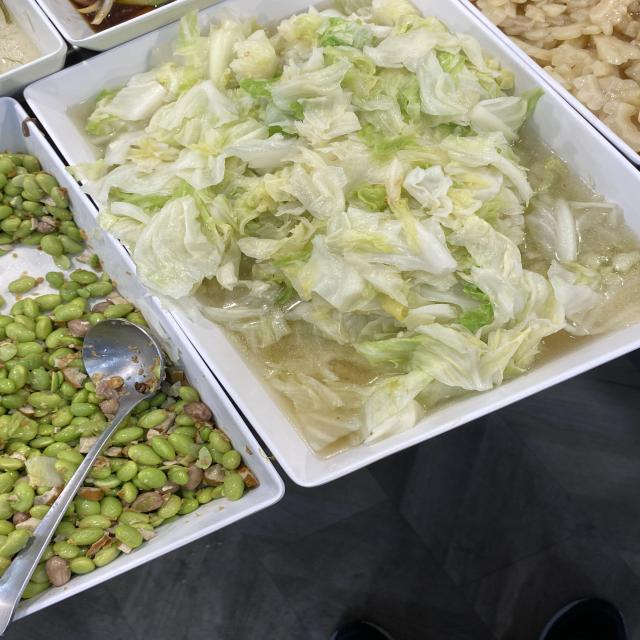cabbage: (170, 95, 505, 294)
